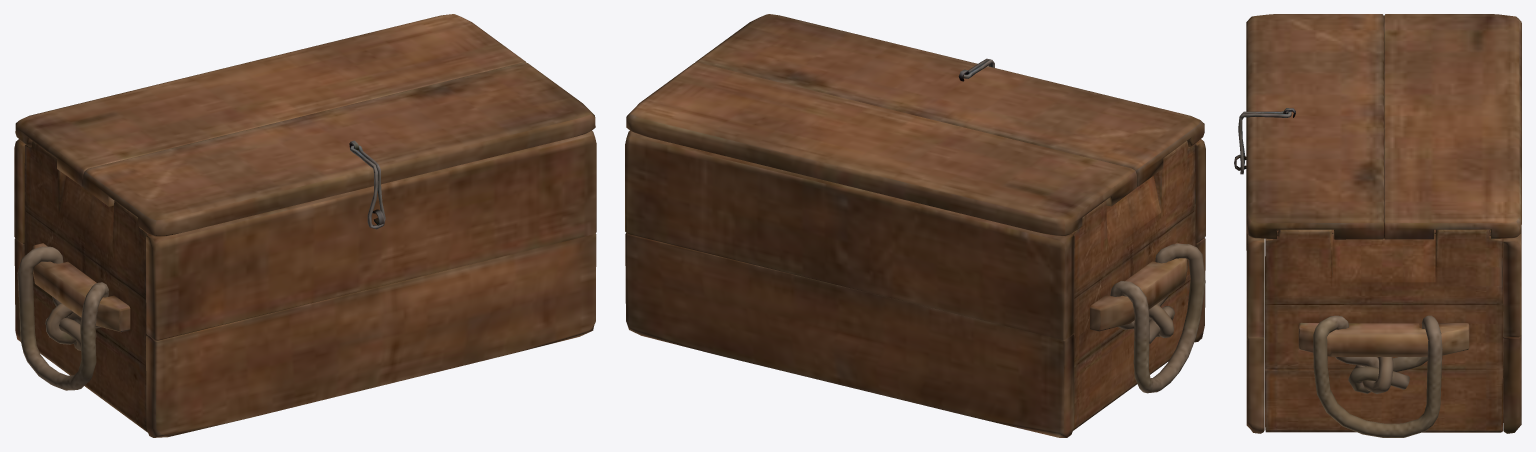
File: wooden_crate.glb
The picture shows the model from 3 angles, left to right: view 1: azimuth 30°, elevation 25°; view 2: azimuth 150°, elevation 25°; view 3: azimuth 270°, elevation 25°; orthographic projection. The views are drawn at different scales.
Parts seen in each view (by area): view 1: wooden_crate; view 2: wooden_crate; view 3: wooden_crate.
Part boxes in pixels (x1,y1,x2,y2): wooden_crate: (14, 14, 596, 437); wooden_crate: (625, 14, 1205, 437); wooden_crate: (1234, 14, 1521, 437).
Bounding box in the file's own units: 0.8993 × 0.3808 × 0.446.
Materials: 1 (1 with a texture image).
